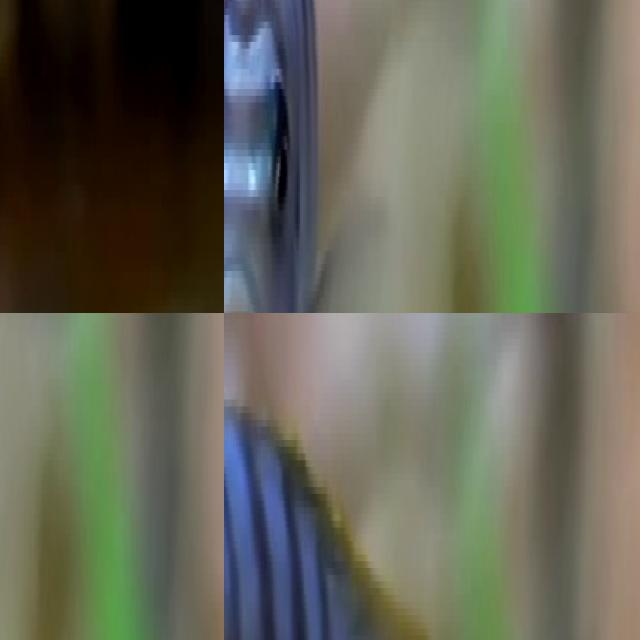fish: (0, 0, 224, 313), (224, 0, 365, 313)
